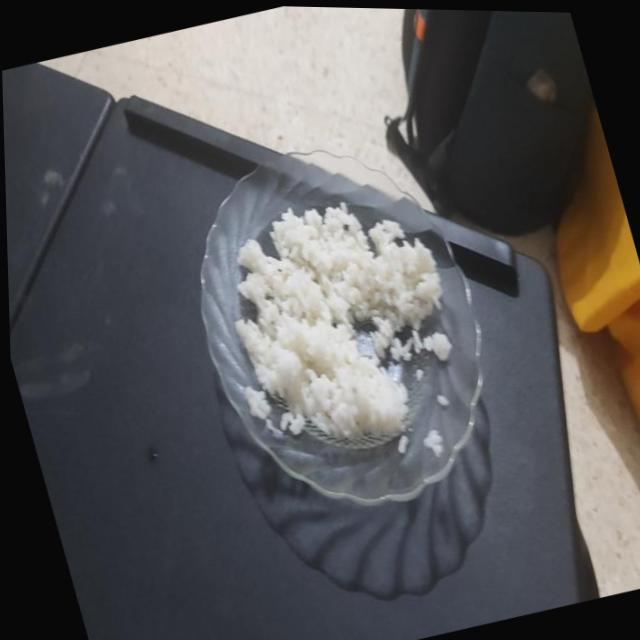nasi_putih: (235, 202, 452, 441)
